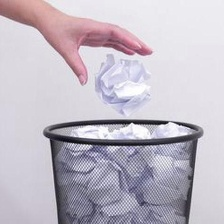tissue: (59, 121, 188, 224), (88, 47, 159, 119)
